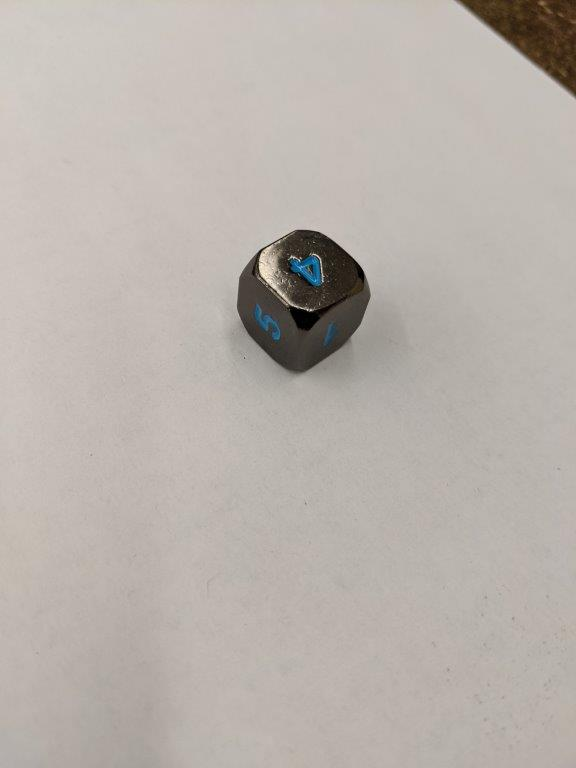d6-4: (235, 229, 370, 371)
